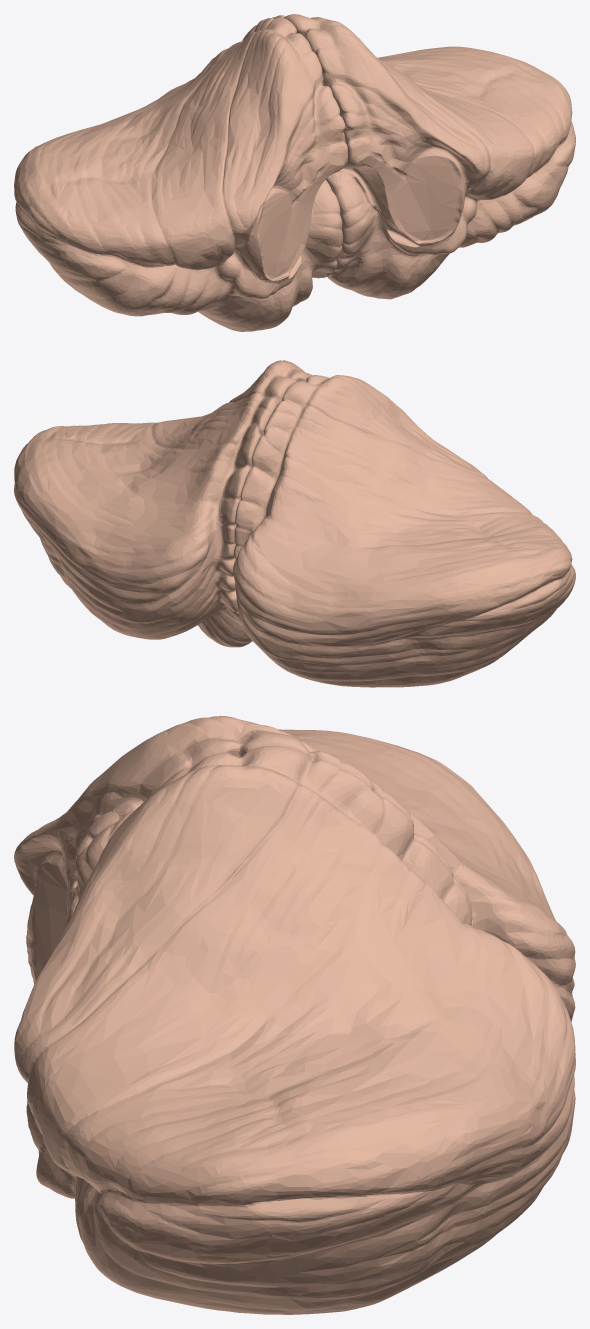
The model's file is cervelletto.glb.
3 renders of one model, top to bottom at view 1: azimuth 30°, elevation 25°; view 2: azimuth 150°, elevation 25°; view 3: azimuth 270°, elevation 25°, orthographic. The views are drawn at different scales.
Visible parts, largest first — view 1: cerebellum; view 2: cerebellum; view 3: cerebellum.
Part boxes in pixels (box(x1,y1,x2,y2)): cerebellum: box(14, 14, 575, 331); cerebellum: box(14, 360, 575, 687); cerebellum: box(14, 716, 575, 1314).
Size of the model in its own units: 107 by 53.27 by 56.29.
